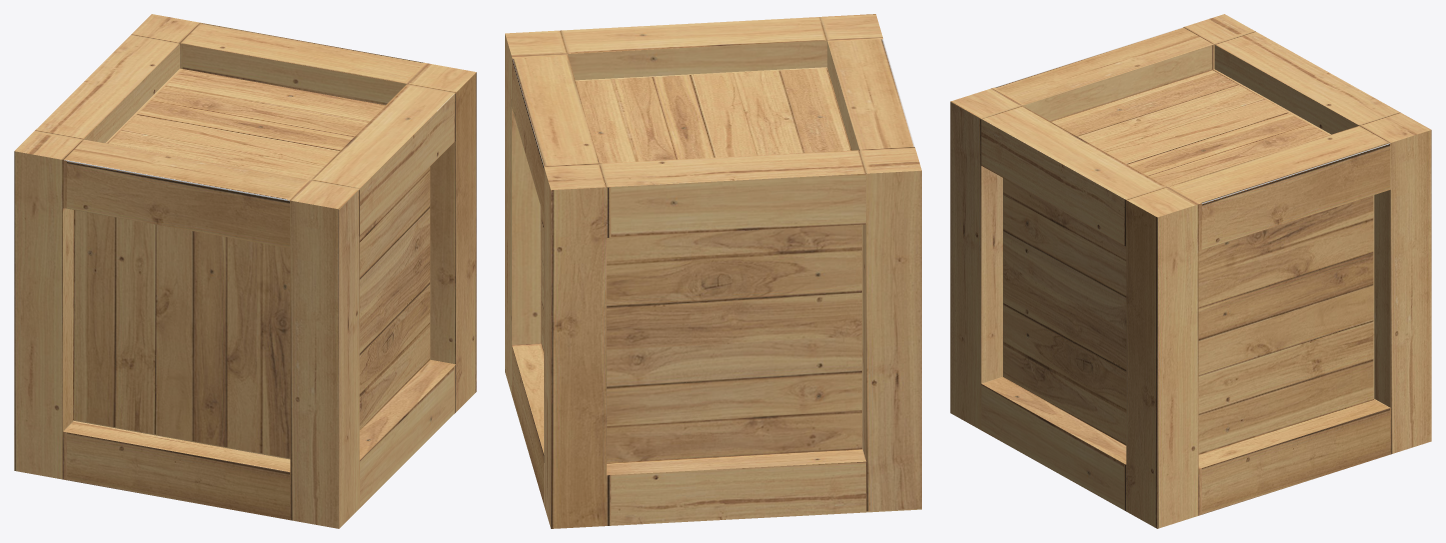
The model's file is Crate.fbx.
3 views of the same model, side by side, from view 1: azimuth 30°, elevation 25°; view 2: azimuth 150°, elevation 25°; view 3: azimuth 270°, elevation 25° (orthographic). The views are drawn at different scales.
Parts seen in each view (by area): view 1: Crate; view 2: Crate; view 3: Crate.
Part boxes in pixels (x1,y1,x2,y2): Crate: [14, 14, 476, 528]; Crate: [505, 14, 921, 528]; Crate: [950, 14, 1431, 528].
Bounding box in the file's own units: 6.59 × 4.71 × 6.59.
